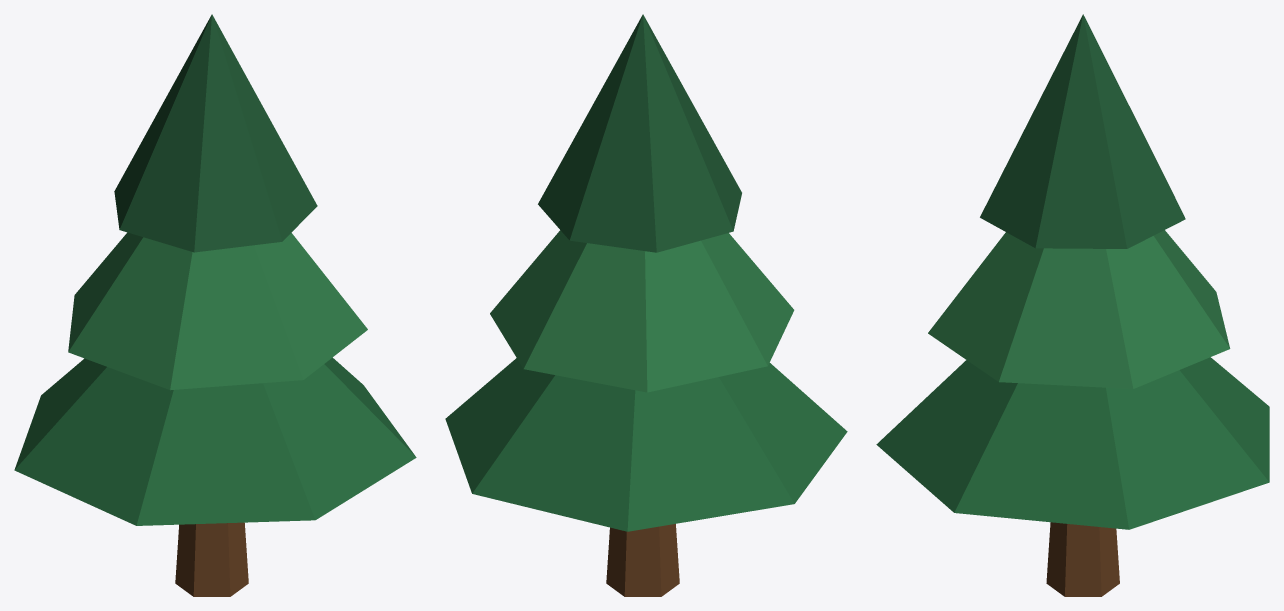
File: pine.glb
The picture shows the model from 3 angles, left to right: view 1: azimuth 30°, elevation 25°; view 2: azimuth 150°, elevation 25°; view 3: azimuth 270°, elevation 25°; orthographic projection.
Visible parts, largest first — view 1: Pine; view 2: Pine; view 3: Pine.
Boxes of the visible parts, x1,y1,x2,y2 form: Pine: (14,14,416,596); Pine: (445,14,847,596); Pine: (876,14,1269,596).
Size of the model in its own units: 2.63 by 4.1 by 2.57.
